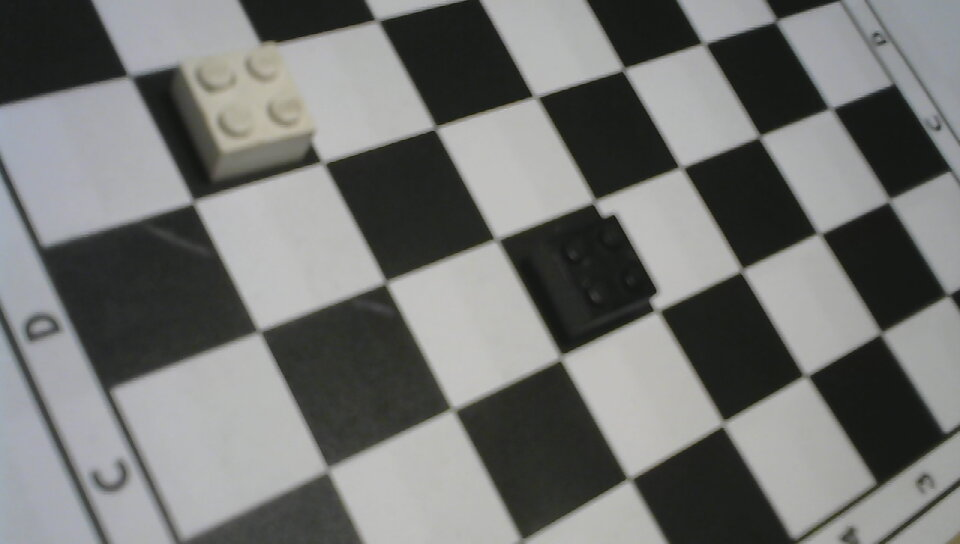bp: (515, 211, 661, 347)
